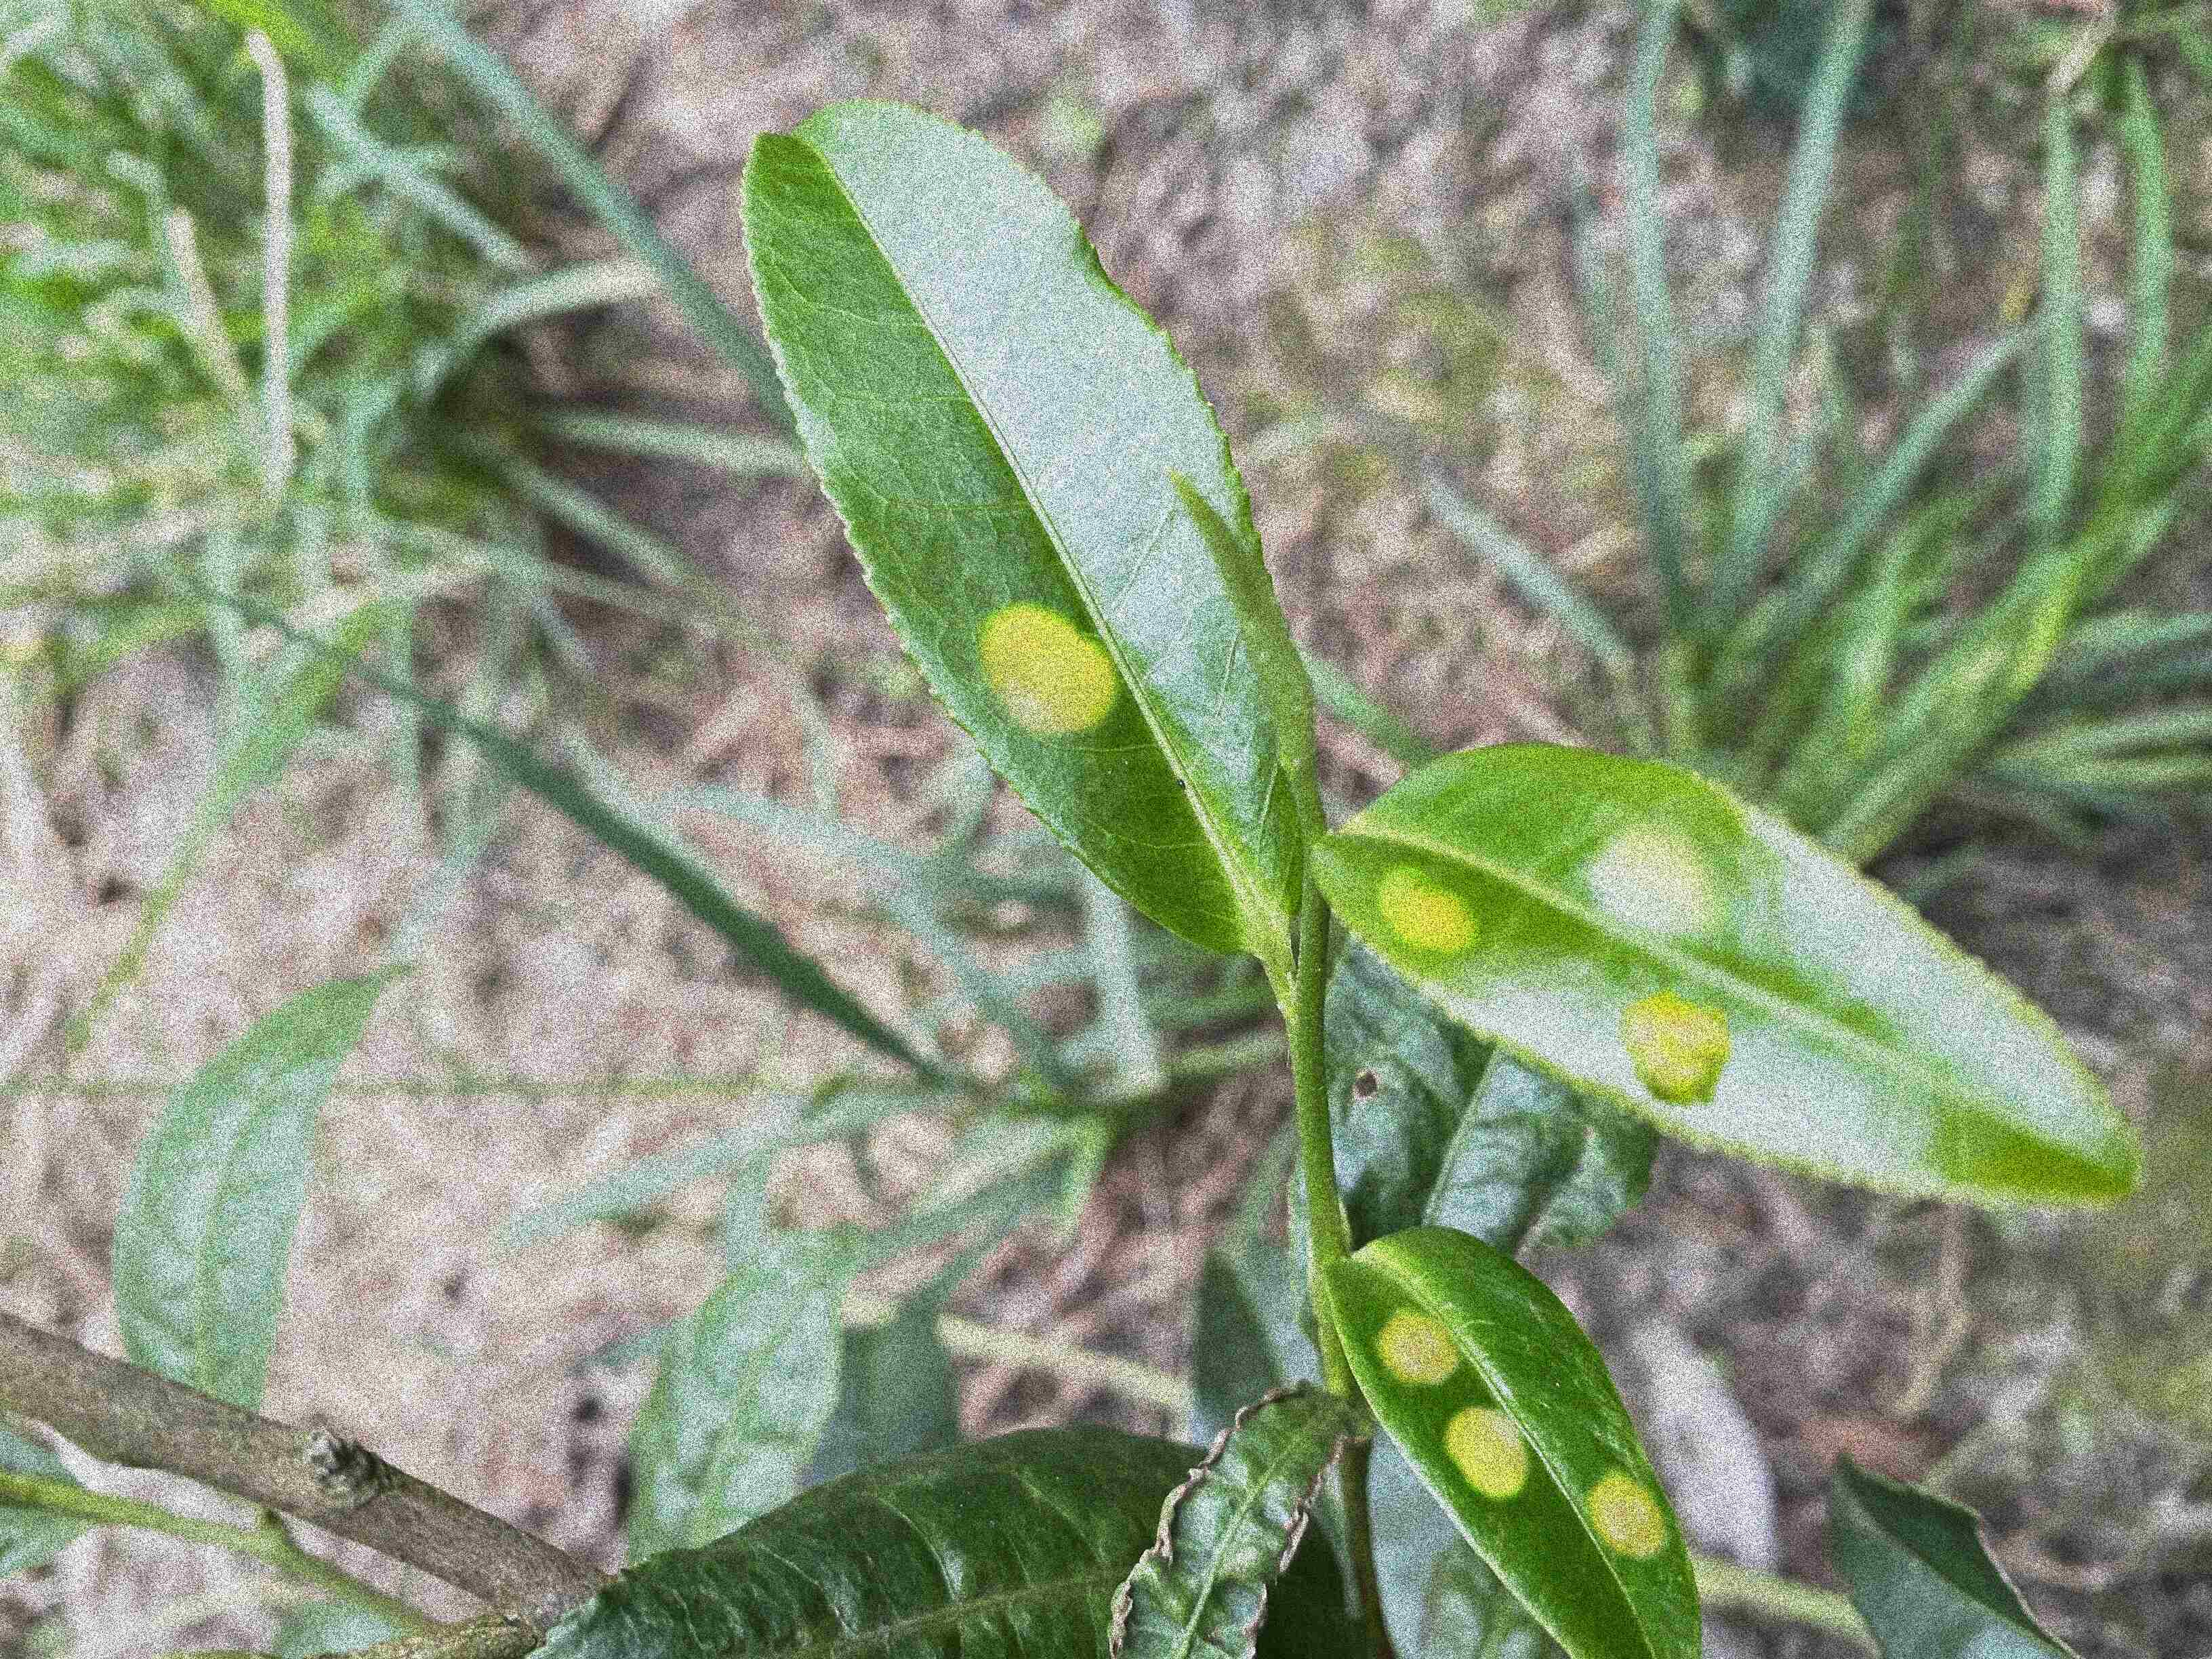chabing_high: (1305, 739, 2148, 1213), (1324, 1223, 1707, 1656)
chabing_low: (738, 92, 1312, 955)
tanju_high: (1104, 1378, 1372, 1656)
